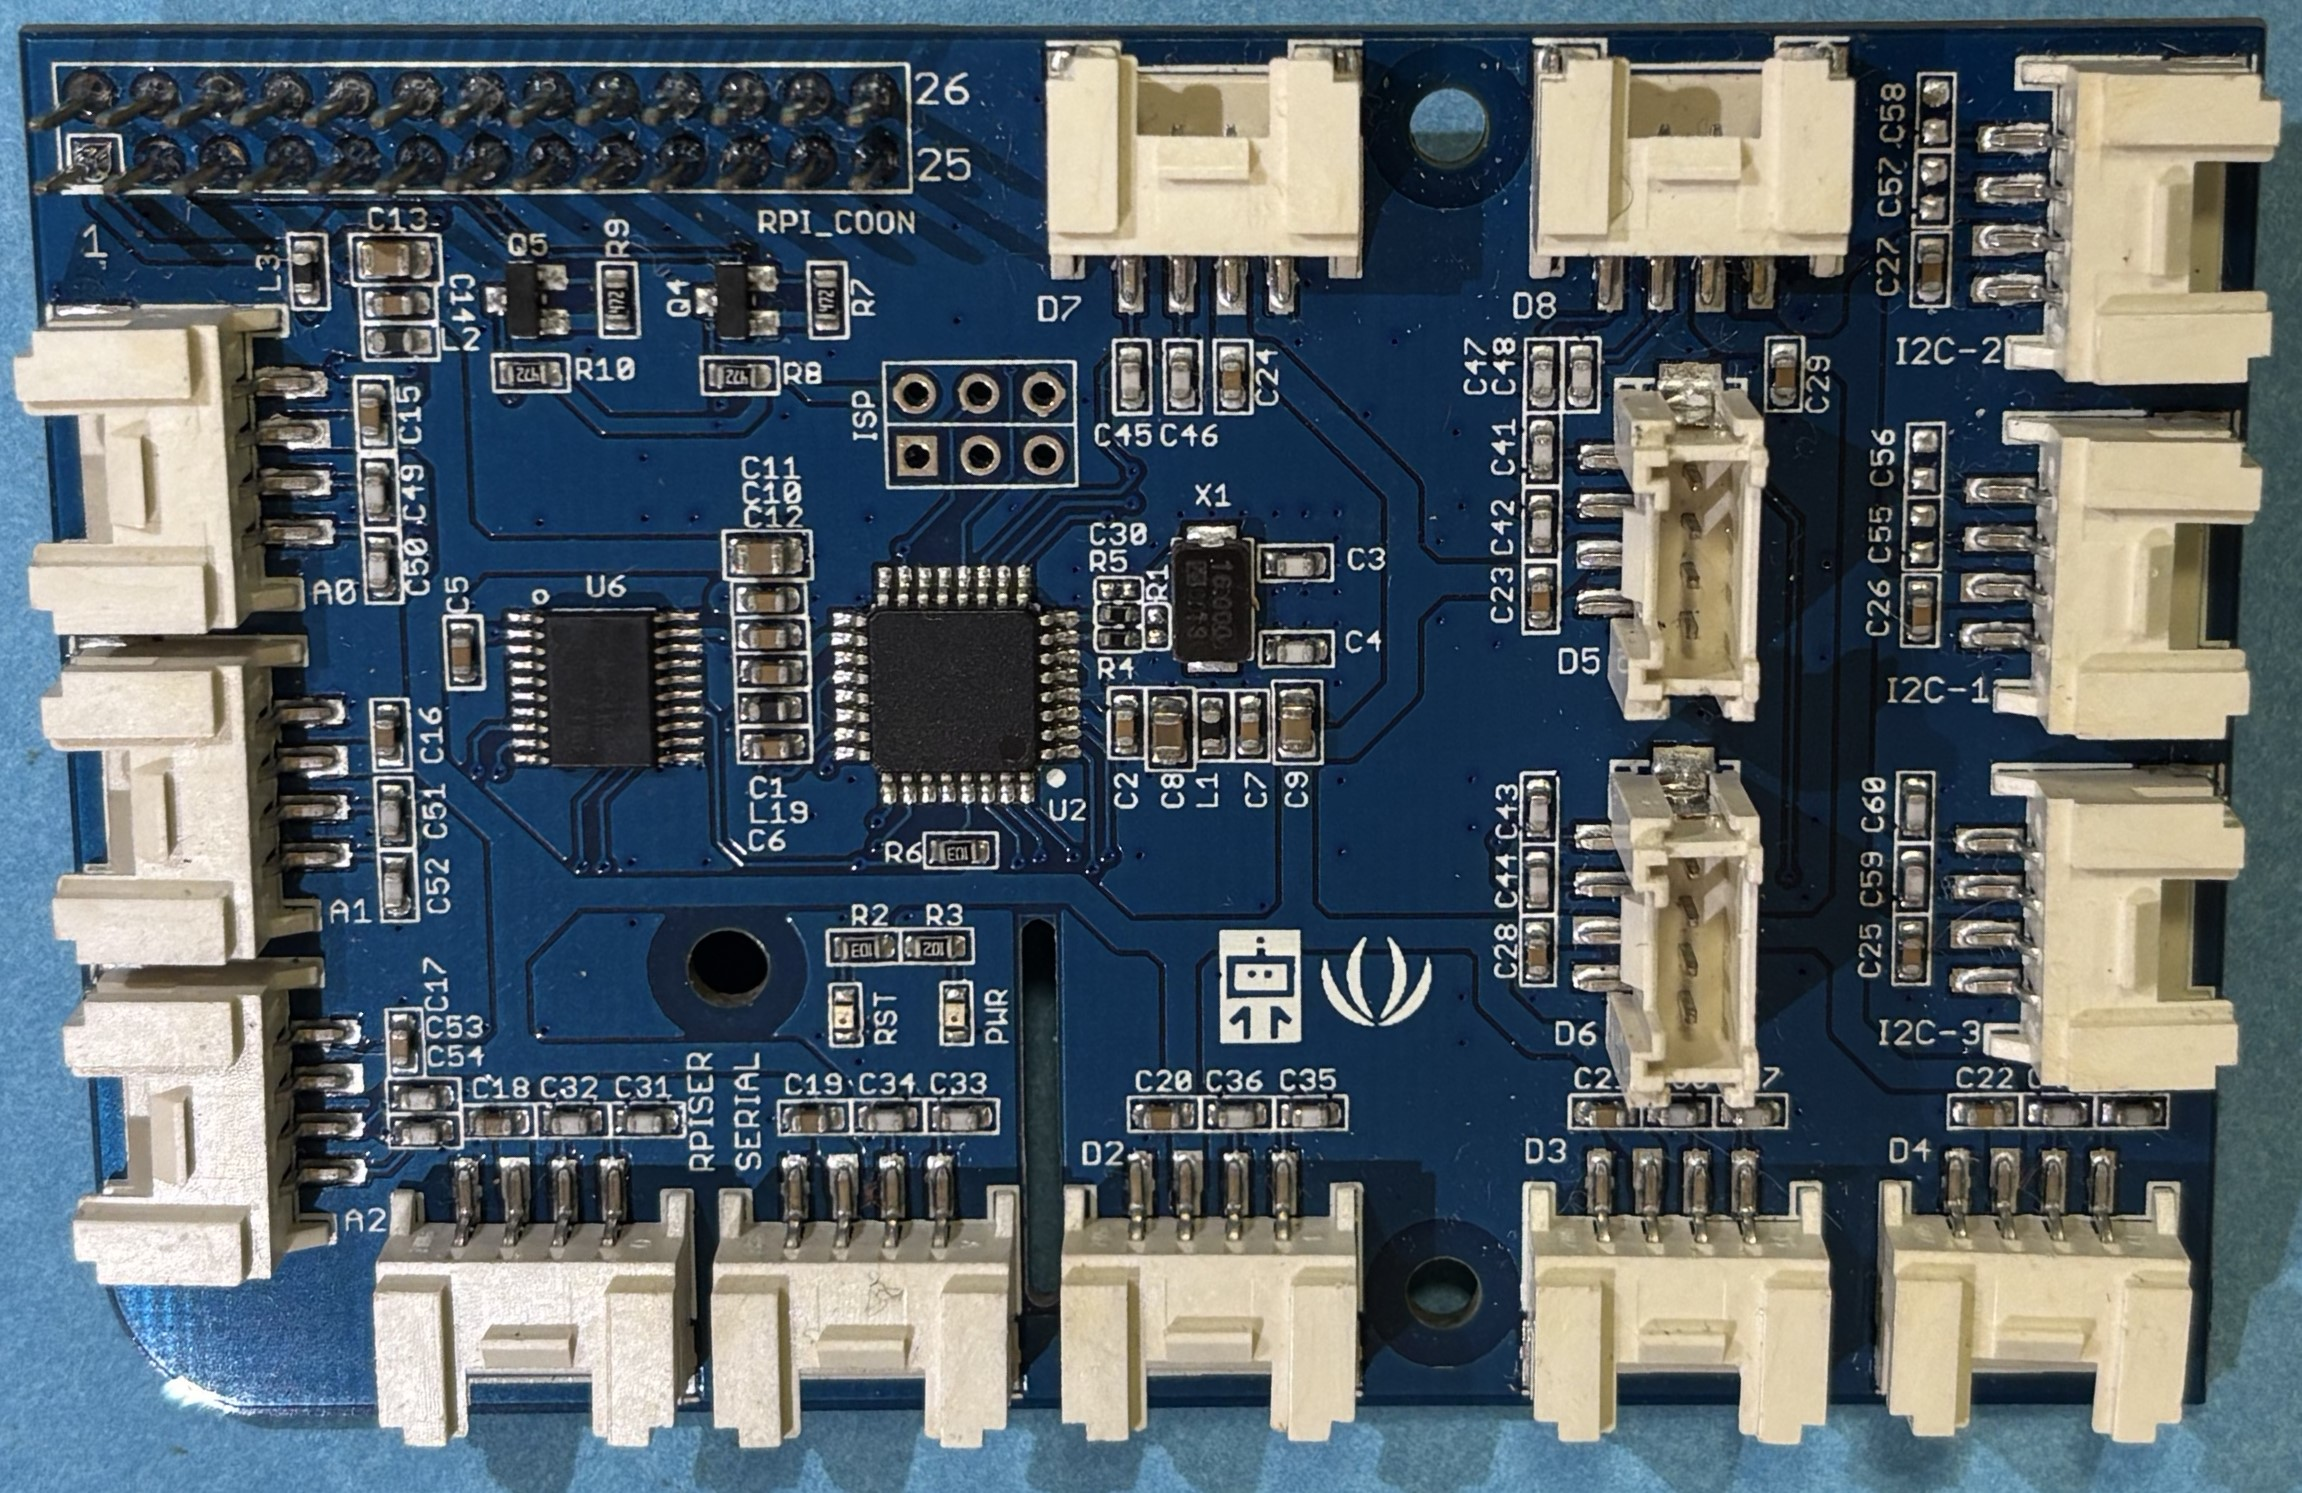Induktor: (371, 330, 433, 352), (292, 247, 317, 297), (1200, 696, 1221, 752), (747, 696, 794, 721)
